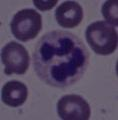N: (33, 31, 90, 88)
